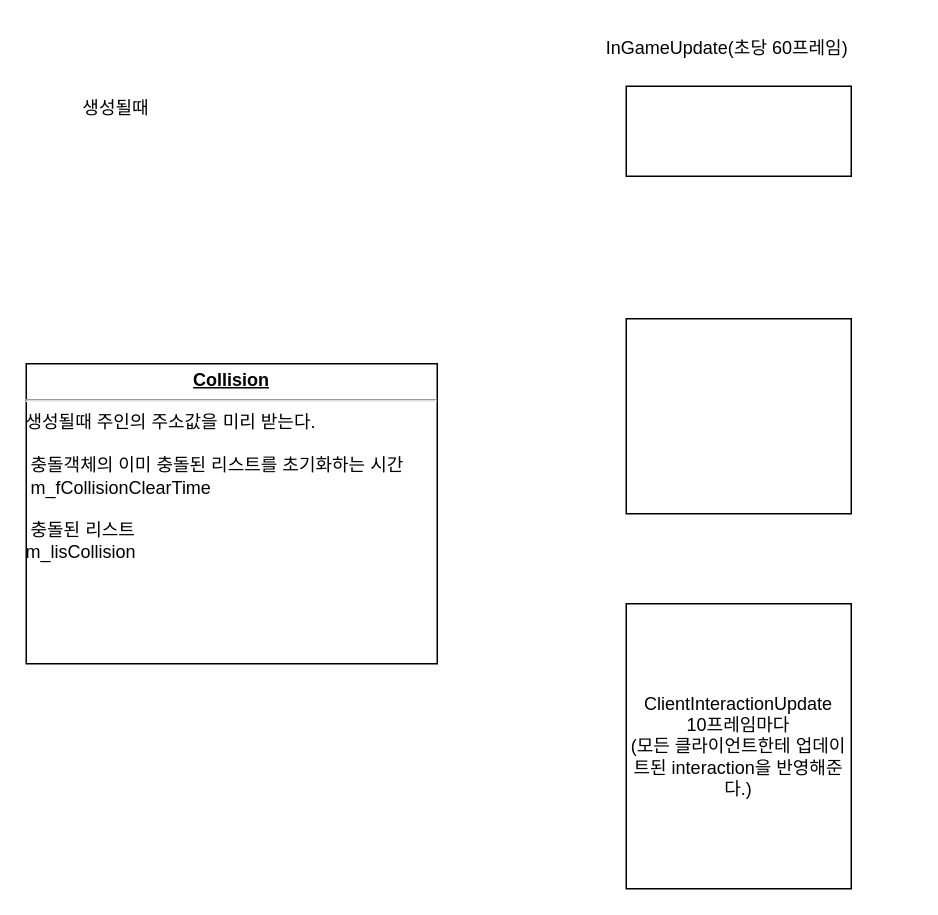
Some shapes in this 938 by 915 pixel diagram are drawn without their labels. The shapes that lost their labels are listed below. From the top down, each one's box as (x1, y1, x2, y2) in pixels, then its label:
(625, 85, 851, 176): InteractionUpdate 매프레임마다
(625, 317, 851, 514): AllCollisionUpdate 매프레임마다
